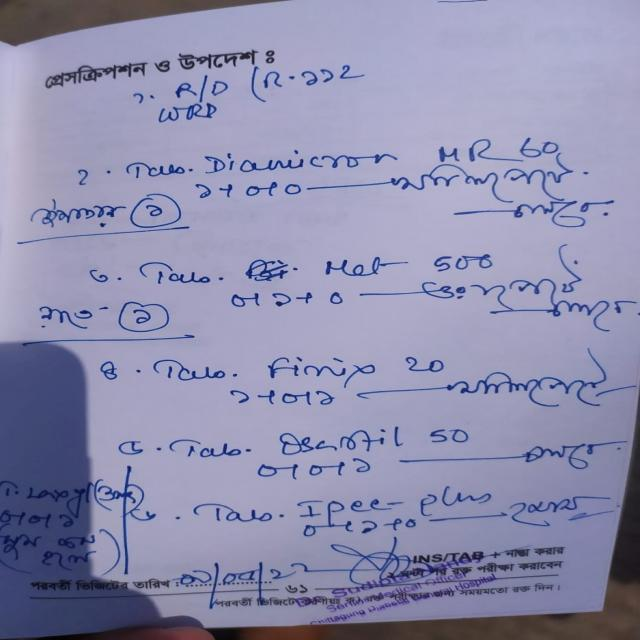Diamicron MR: (198, 136, 512, 172)
Finix: (248, 354, 387, 386)
Ipec-Plus: (282, 488, 498, 519)
Met: (318, 255, 402, 281)
Osertil: (264, 427, 410, 457)
